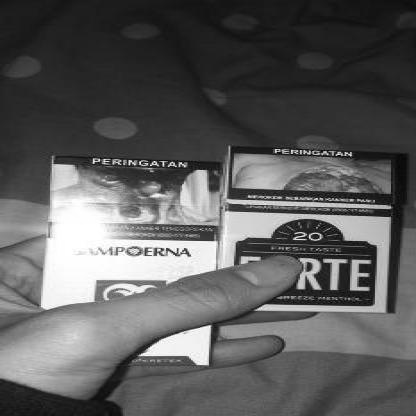objects: (40, 157, 220, 368), (219, 146, 405, 314)
